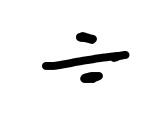div: (42, 32, 130, 83)
